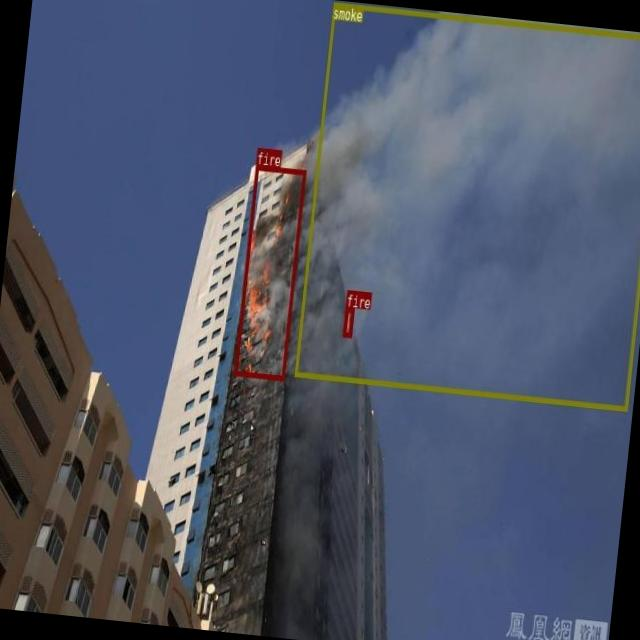fire: (233, 164, 305, 378), (342, 308, 353, 338)
smoke: (294, 0, 640, 409)
